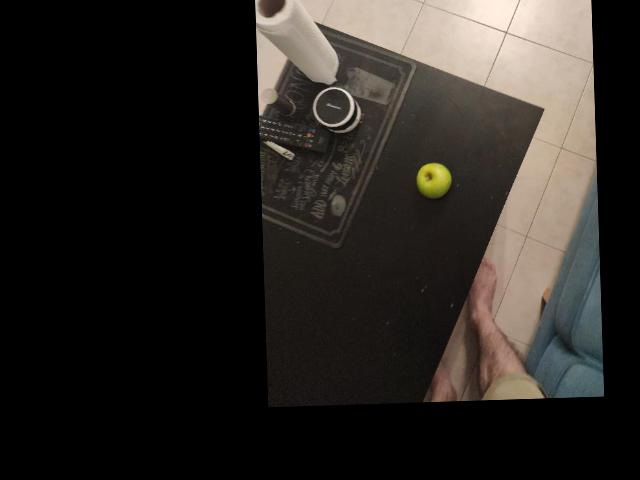apple: (411, 158, 450, 203)
